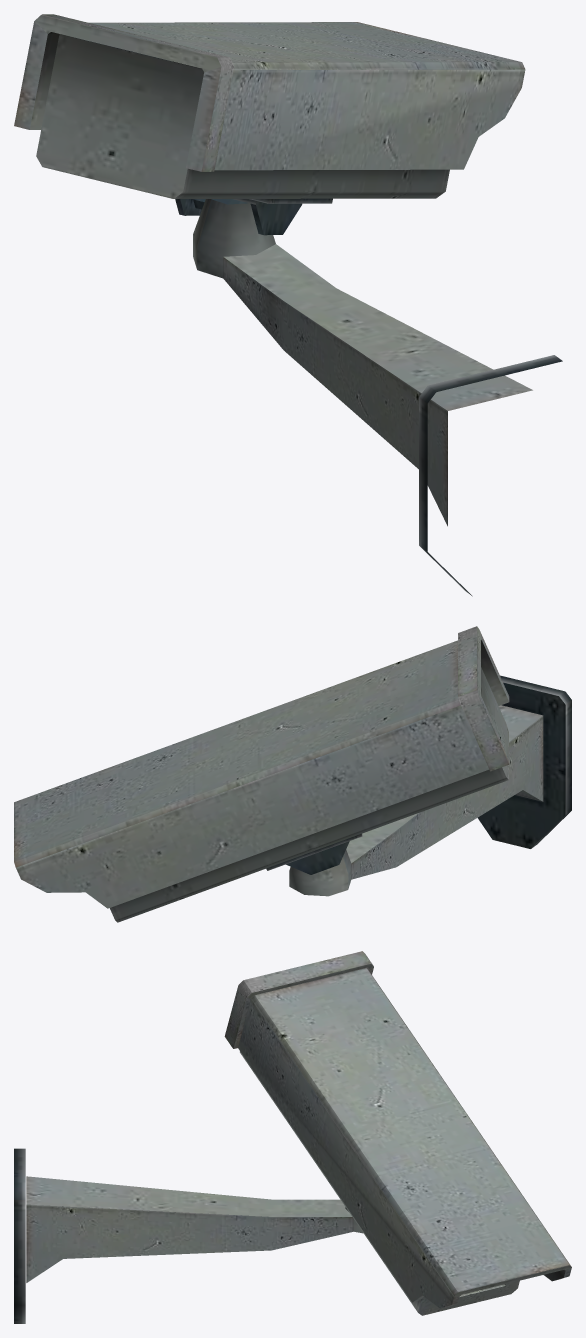
The model's file is camera.glb.
3 views of the same model, one above another, from view 1: azimuth 30°, elevation 25°; view 2: azimuth 150°, elevation 25°; view 3: azimuth 270°, elevation 25° (orthographic). The views are drawn at different scales.
Visible parts, largest first — view 1: 0_camera; view 2: 0_camera; view 3: 0_camera.
Part boxes in pixels (<box>): 0_camera: <box>14,14,562,596</box>; 0_camera: <box>14,626,571,922</box>; 0_camera: <box>14,951,571,1323</box>.
Size of the model in its own units: 0.8319 by 0.5935 by 1.01.
1 material, 1 textured.
